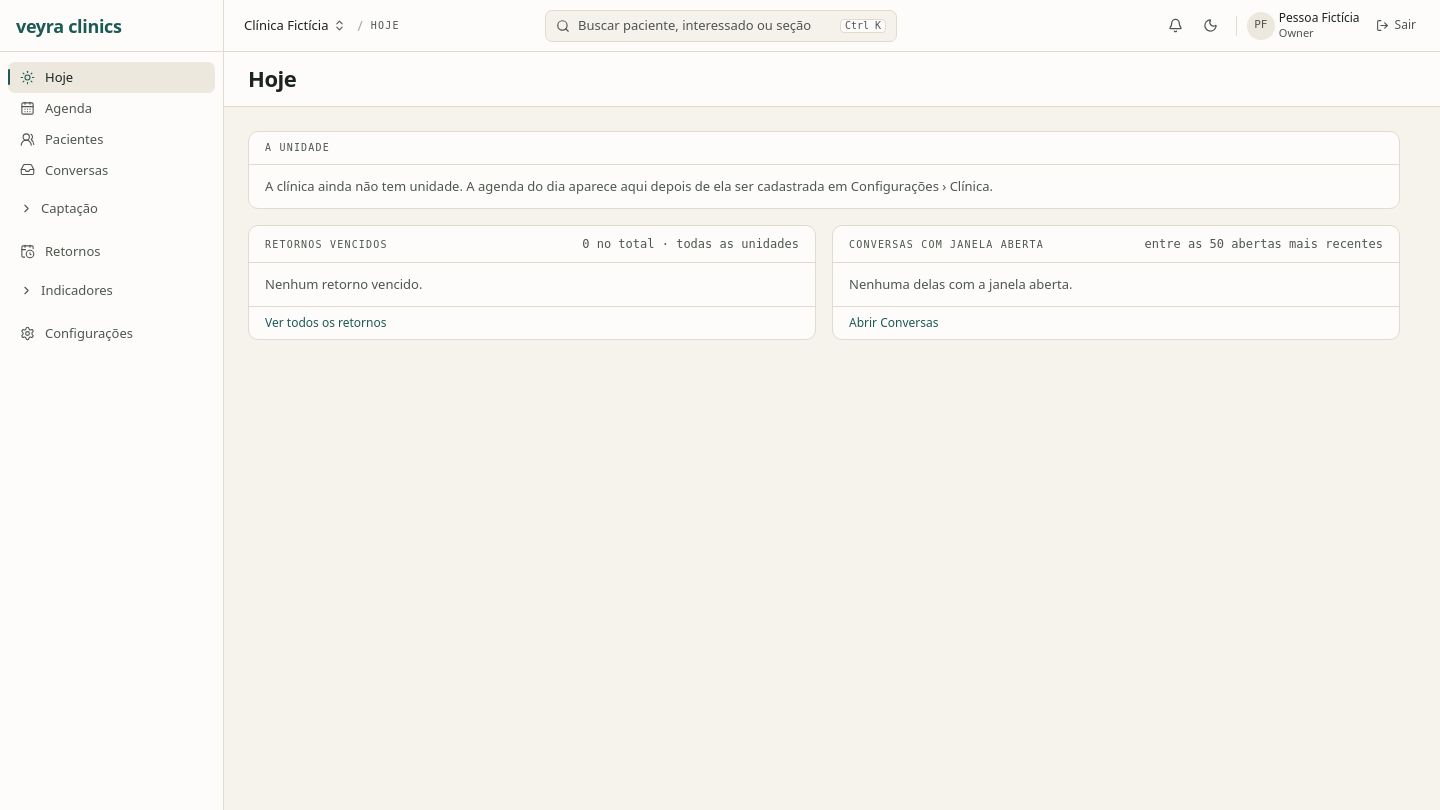
Scenario: cada produto, o seu menu e as suas rotas › Clinics: o início é o Hoje da clínica, e o menu é o da clínica — nada do CRM que não é dela
Expected: the heading "Hoje" is shown, [248,66,296,92]
Expected: the element "Retornos vencidos" is shown, [249,226,815,339]
Click the button "Captação". click: (112, 209)
box: [8,193,215,224]
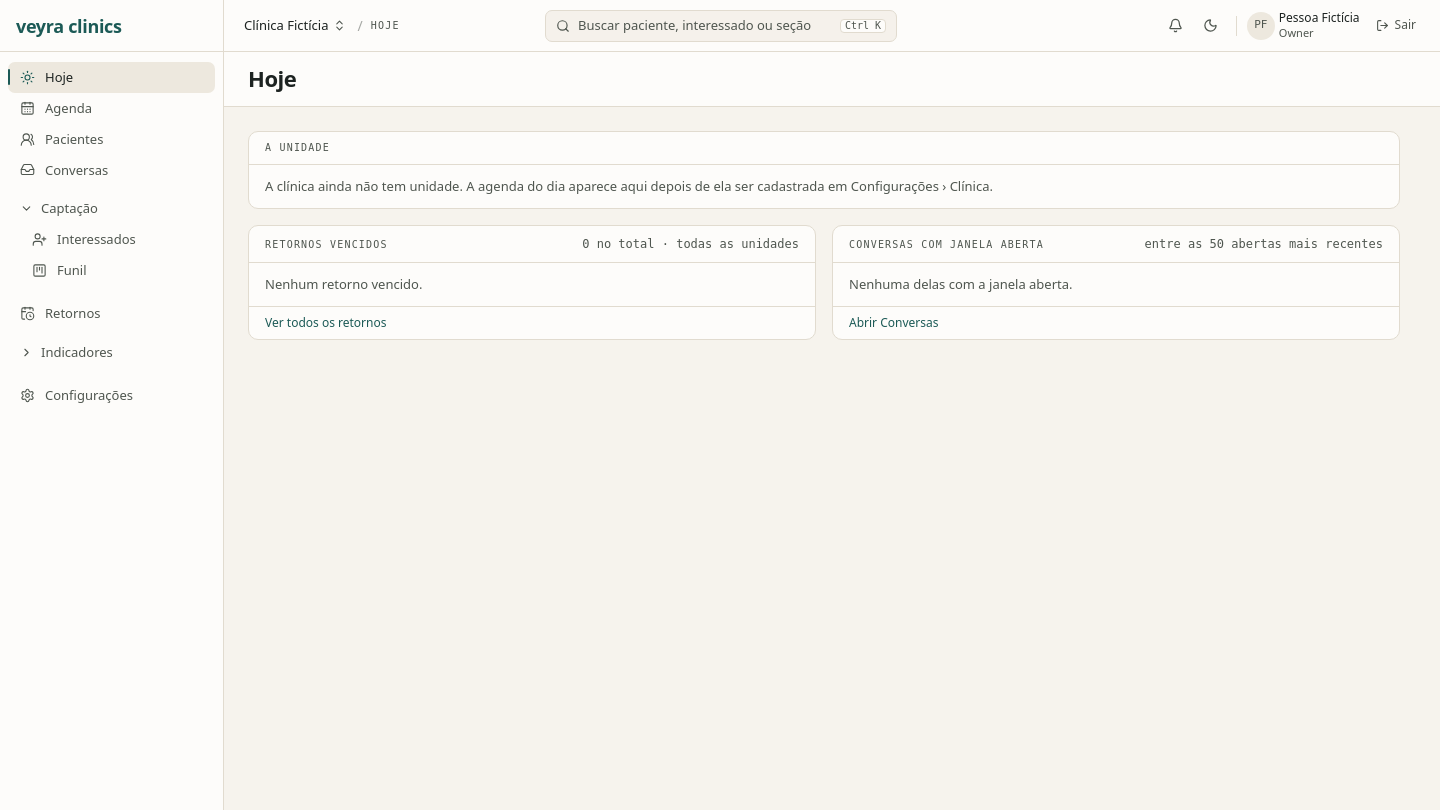
Expected: the text "veyra clinics" is shown, [16,16,122,34]
Result: the link "Interessados" is shown at [32,230,136,248]
Result: the link "Funil" is shown at [32,261,86,279]
